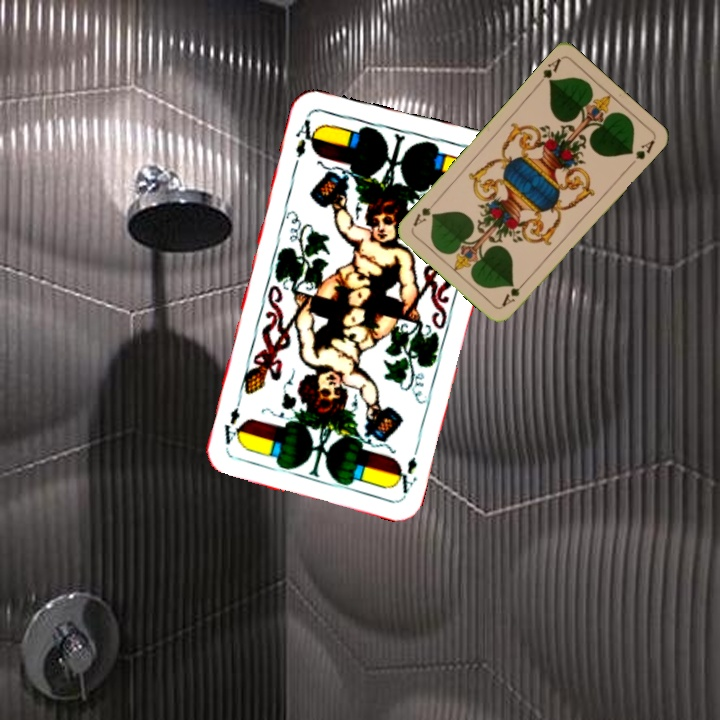EA: (390, 439, 422, 496), (291, 115, 321, 160)
GA: (533, 54, 564, 88), (498, 276, 529, 309)
